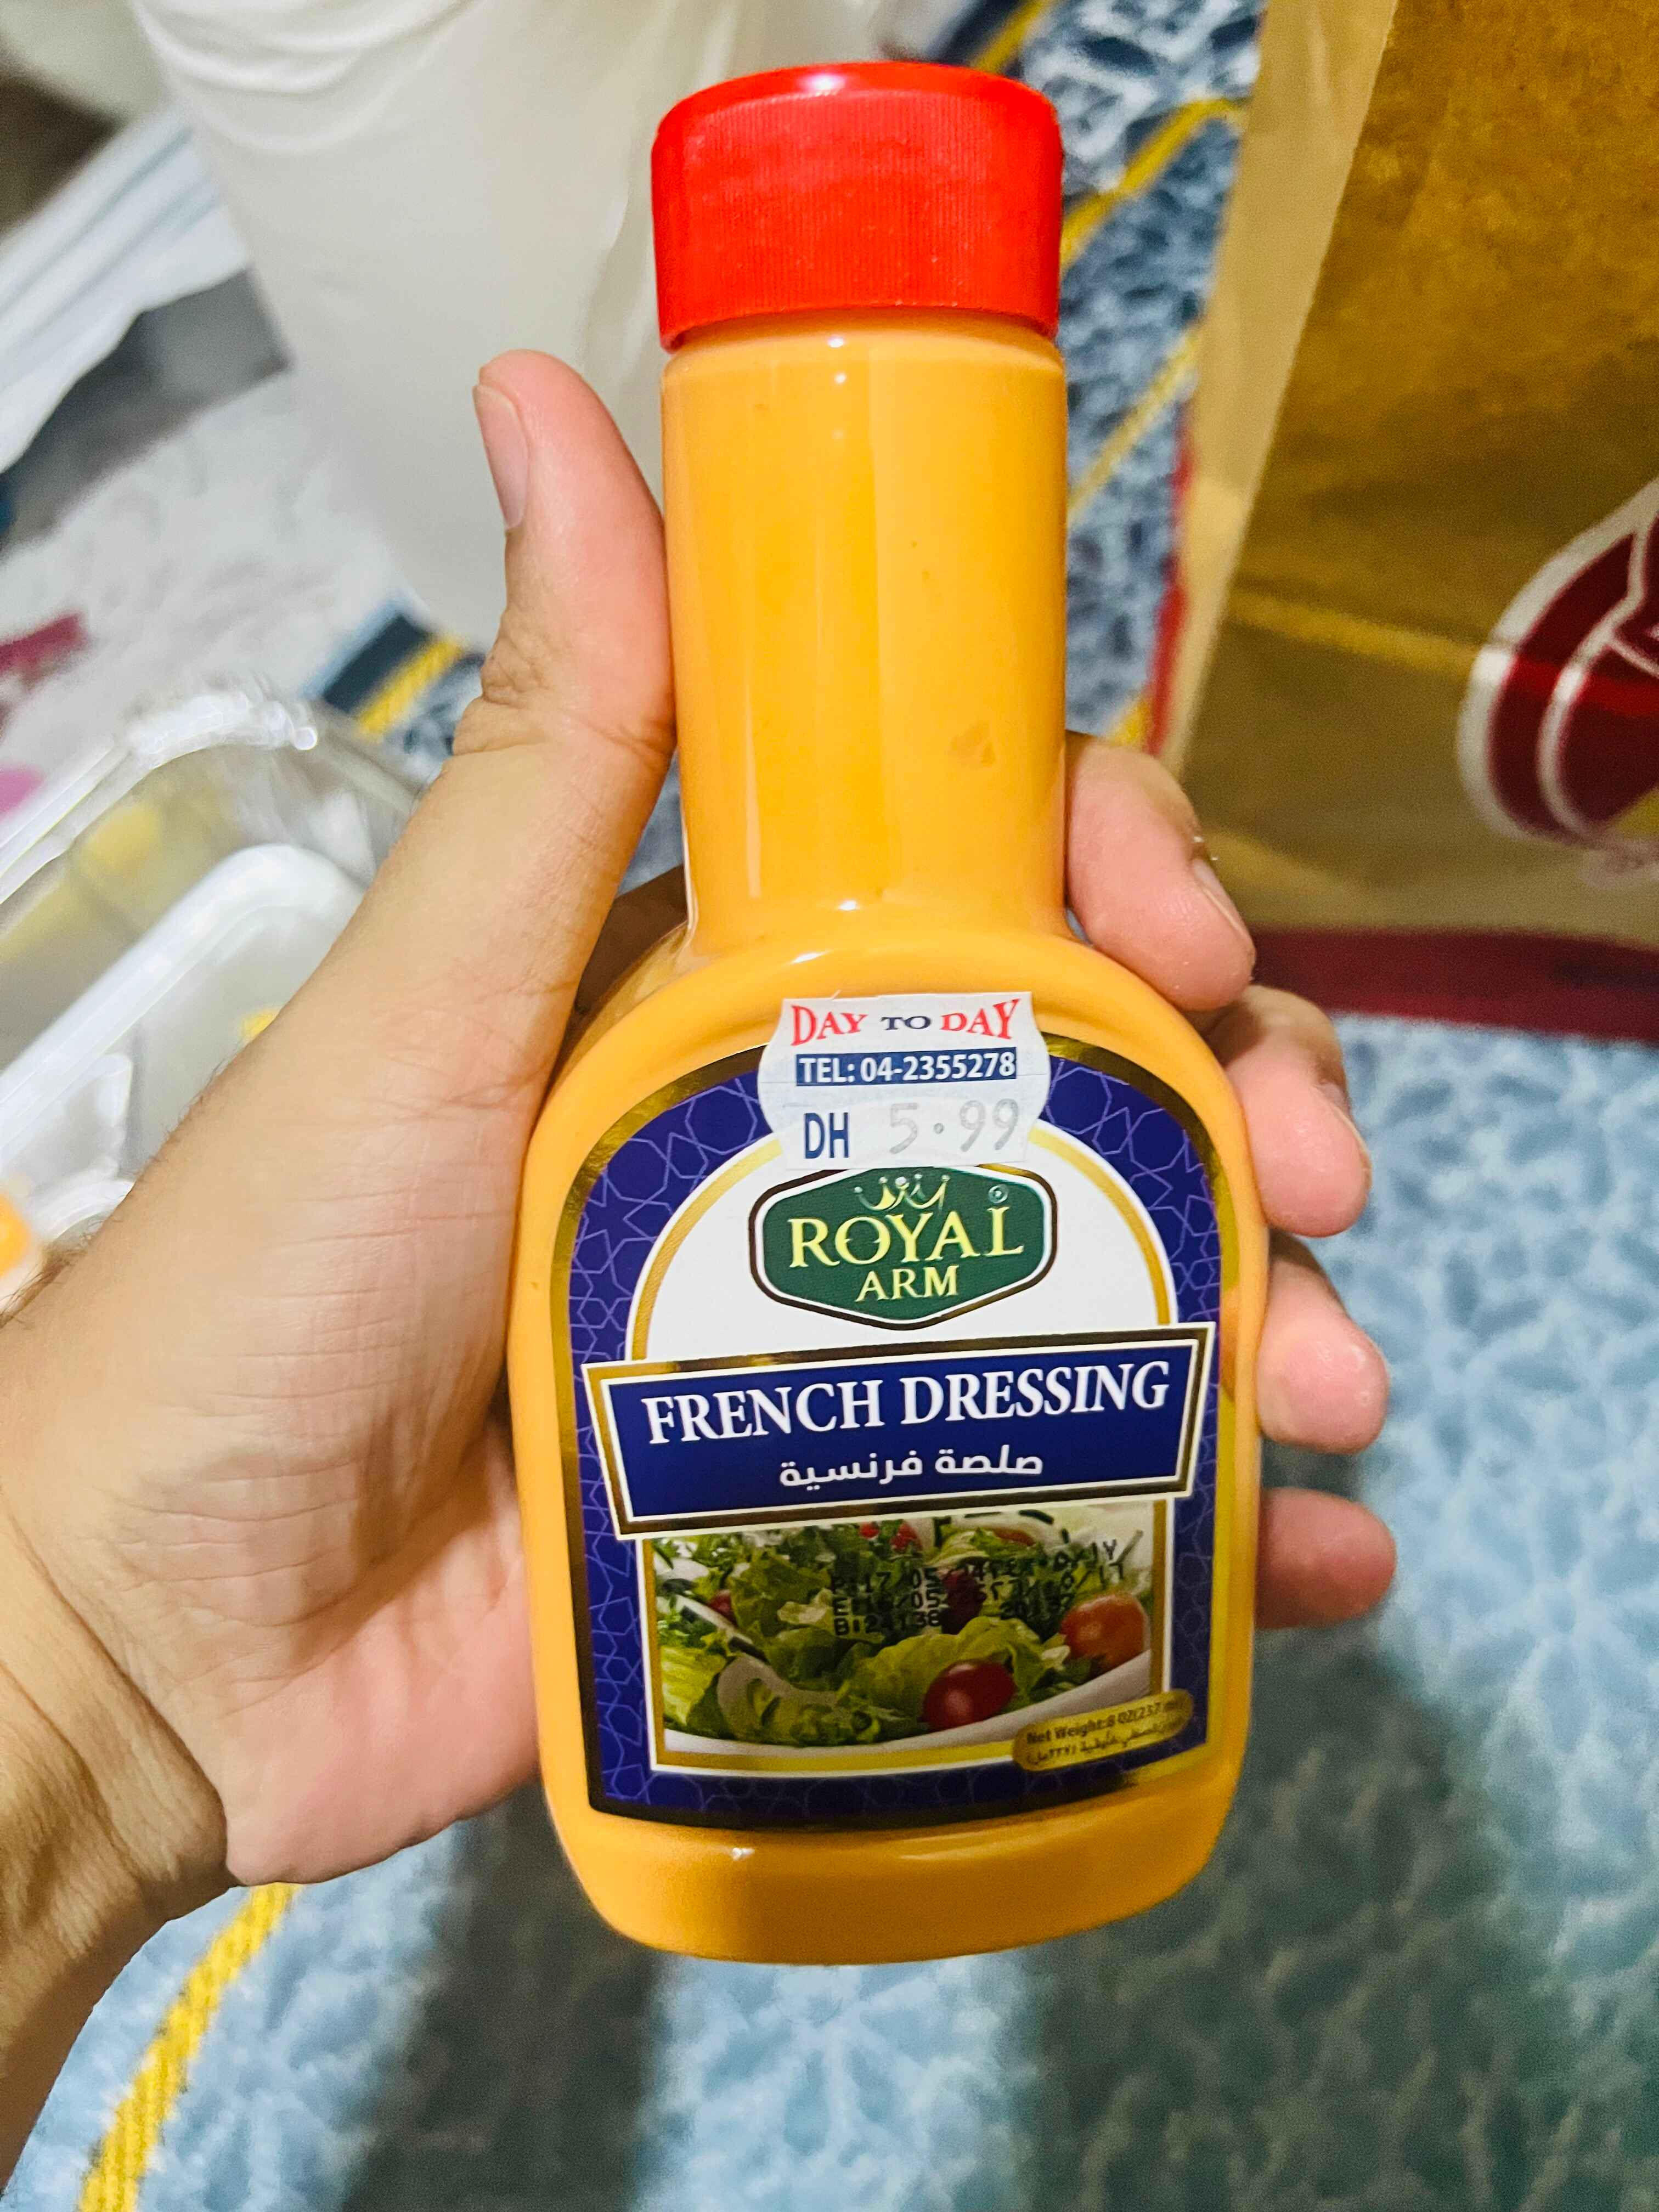PriceTagSmall: (765, 1000, 1065, 1170)
